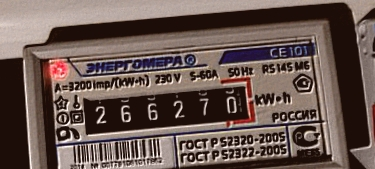0: (224, 93, 238, 115)
2: (92, 103, 108, 125), (171, 98, 185, 120)
6: (144, 101, 159, 121), (119, 103, 133, 124)
7: (196, 96, 211, 118)
screen: (72, 72, 263, 145)
